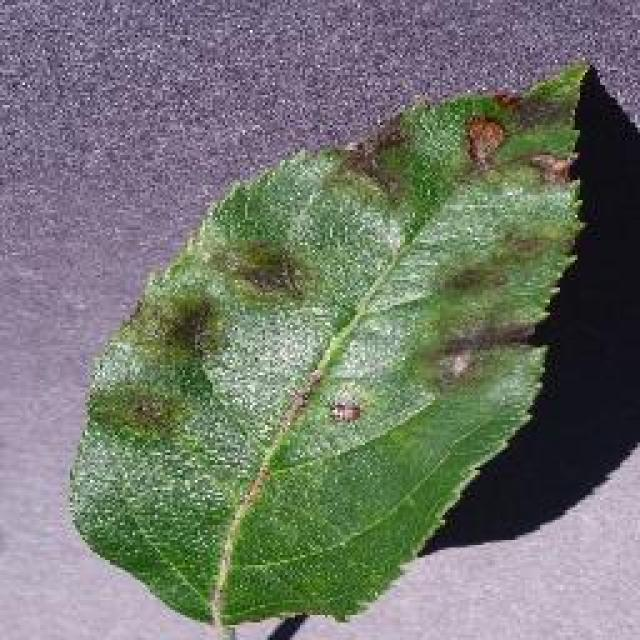apple scab disease: (65, 58, 593, 638)
